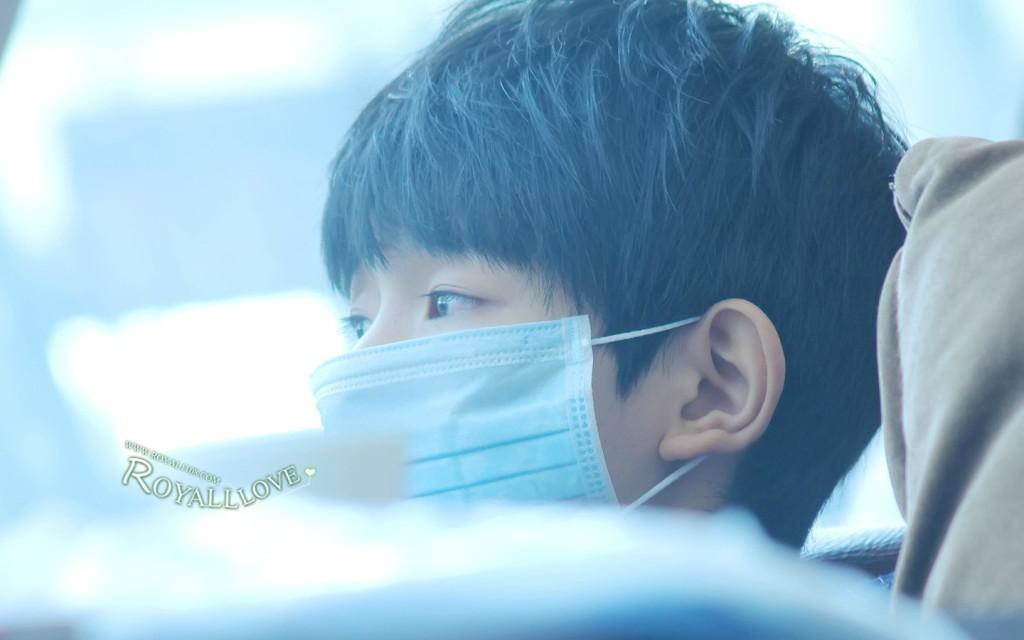OK: (316, 196, 670, 565)
